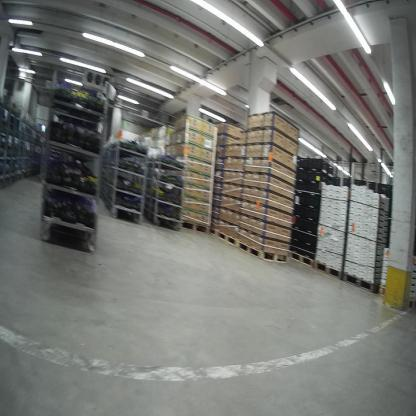pallet: (238, 232, 287, 262), (341, 269, 380, 294), (312, 260, 343, 281), (179, 216, 211, 236), (287, 248, 315, 270), (217, 229, 240, 247), (406, 293, 415, 313), (378, 283, 390, 296), (211, 224, 217, 236)
